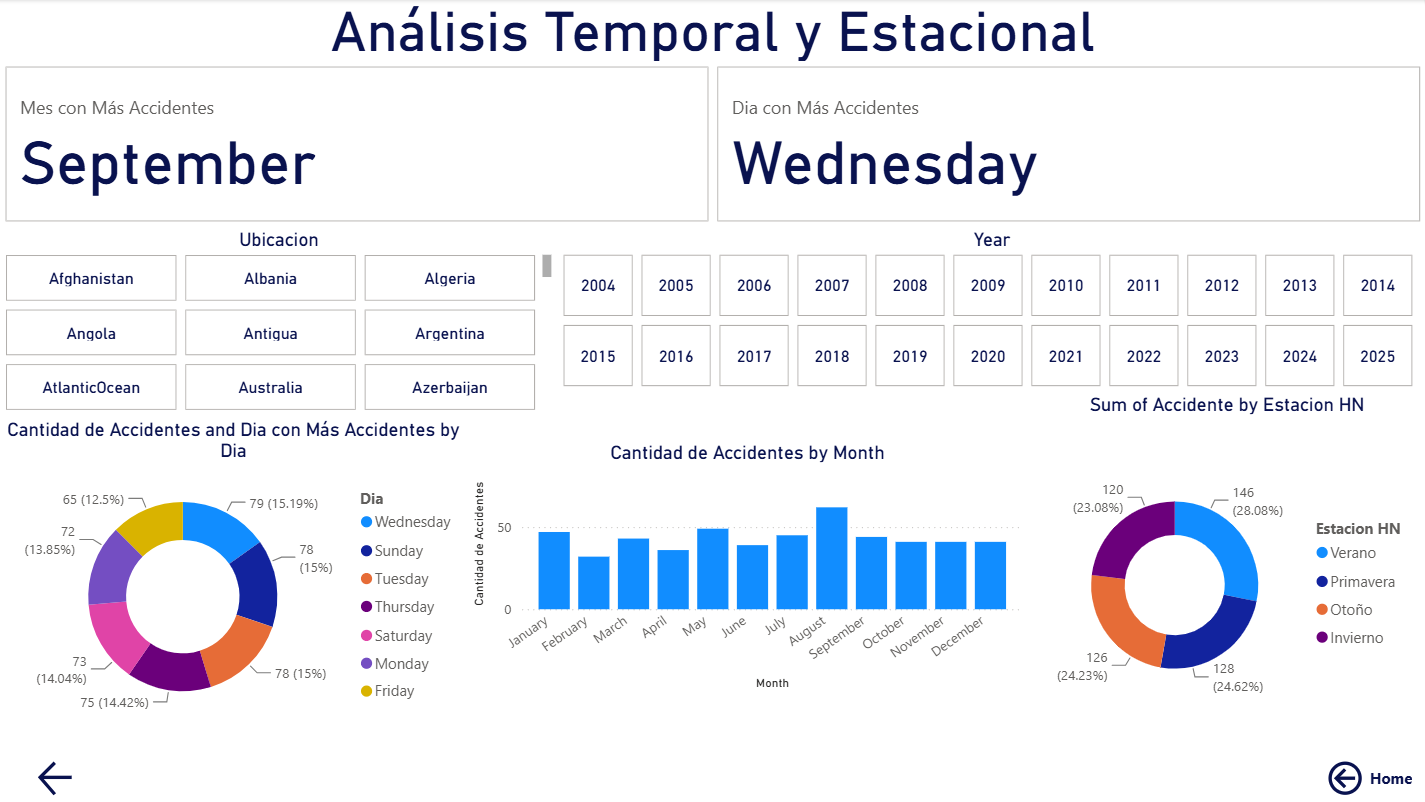

What the dashboard file says about the page in this screenshot:
{"tool":"powerbi","page":{"name":"Análisis Temporal y Estacional","canvas":[1280,720],"ordinal":5},"visuals":[{"type":"actionButton","box":[0,679.6,99.7,40.4],"z":0},{"type":"textbox","title":"Análisis Temporal y Estacional","box":[0,0,1280.2,55.7],"z":1000},{"type":"actionButton","box":[1179.8,679.9,100.2,39.9],"z":2000},{"type":"donutChart","fields":{"Category":["Tabla_Accidente.Estacion HN"],"Y":["Sum(Tabla_Accidente.Accidente)"]},"box":[922.9,353.7,357.3,325.9],"z":3000},{"type":"cardVisual","fields":{"Data":["Medidas.Mes con Más Accidentes","Medidas.Dia con Más Accidentes"]},"box":[0,55.7,1280.2,149.9],"z":4000},{"type":"columnChart","fields":{"Category":["Calendario.Date.Variation.Date Hierarchy.Month"],"Y":["Medidas.Cantidad de Accidentes"]},"box":[419.3,396.8,503.6,228],"z":5000},{"type":"donutChart","fields":{"Category":["Tabla_Accidente.Dia"],"Y":["Medidas.Cantidad de Accidentes"]},"box":[0,376.2,419.3,282.8],"z":6000},{"type":"advancedSlicerVisual","fields":{"Values":["Calendario.Date.Variation.Date Hierarchy.Year"]},"box":[500.7,205.6,779.3,148.1],"z":7000},{"type":"advancedSlicerVisual","fields":{"Values":["Tabla_Accidente.Ubicacion"]},"box":[0,205.6,500.9,170.6],"z":8000}]}

Visuals, with their boxes in screenshot pixels (x1, y1, x2, y2), scaled from the page's 1280x720 canvas onto the 1425x802 screenshot:
actionButton: box(0, 757, 111, 801)
"Análisis Temporal y Estacional" textbox: box(0, 0, 1424, 62)
actionButton: box(1313, 757, 1424, 801)
donutChart - Tabla_Accidente.Estacion HN x Sum(Tabla_Accidente.Accidente): box(1027, 394, 1424, 757)
cardVisual - Medidas.Mes con Más Accidentes x Medidas.Dia con Más Accidentes: box(0, 62, 1424, 229)
columnChart - Calendario.Date.Variation.Date Hierarchy.Month x Medidas.Cantidad de Accidentes: box(467, 442, 1027, 696)
donutChart - Tabla_Accidente.Dia x Medidas.Cantidad de Accidentes: box(0, 419, 467, 734)
advancedSlicerVisual - Calendario.Date.Variation.Date Hierarchy.Year: box(557, 229, 1424, 394)
advancedSlicerVisual - Tabla_Accidente.Ubicacion: box(0, 229, 558, 419)
